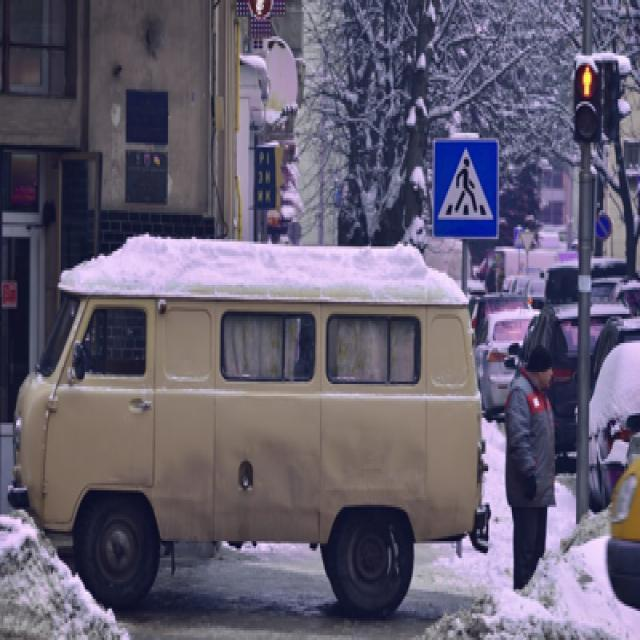crosswalk_sign: (430, 134, 500, 244)
